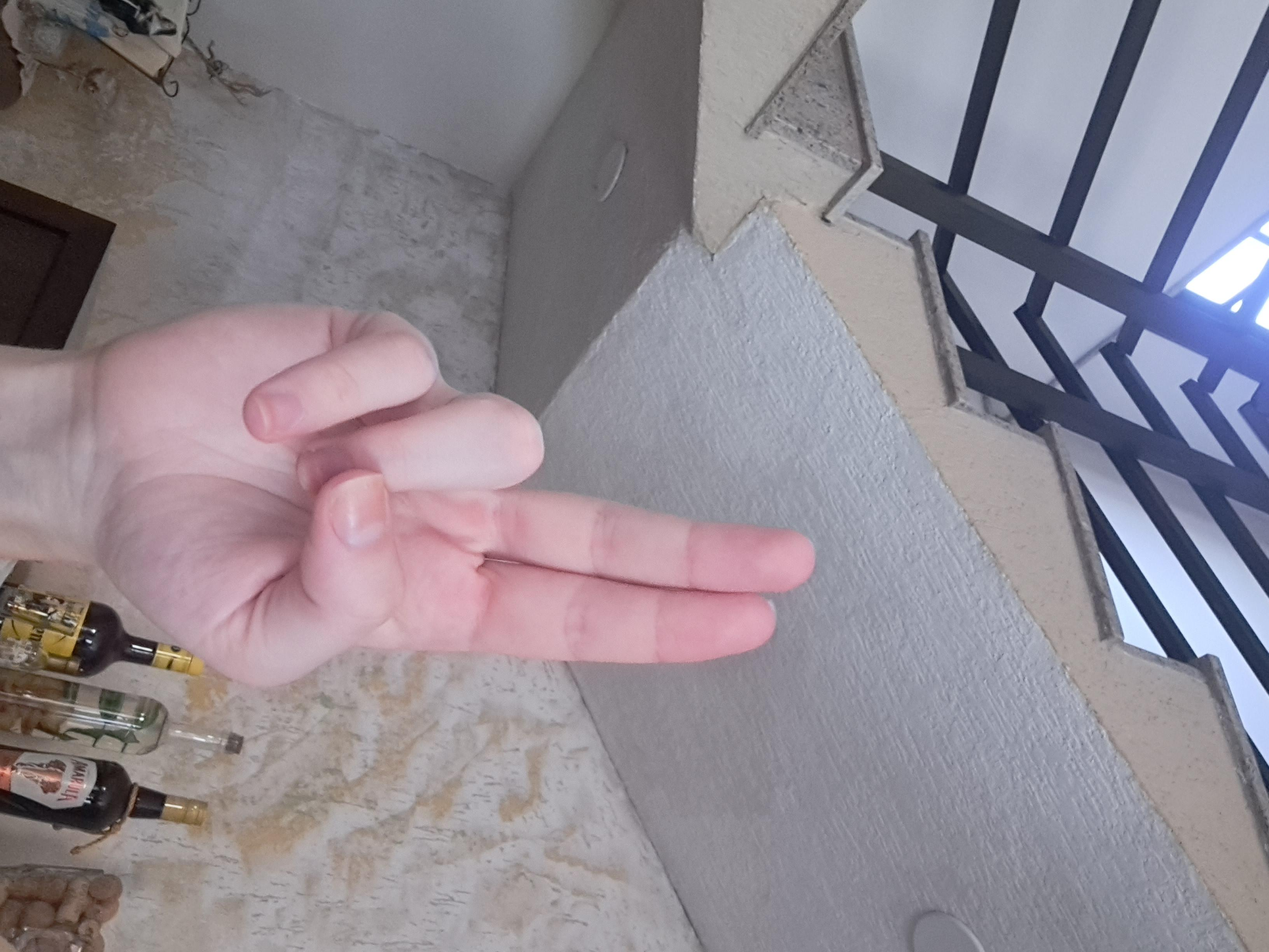U: (373, 338, 933, 898)
